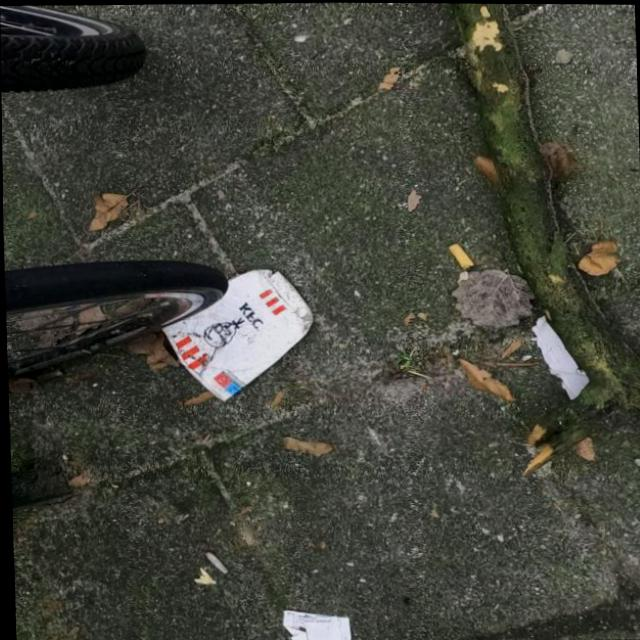Cup: (156, 263, 316, 403)
Paper: (525, 314, 587, 401), (277, 607, 350, 640)
